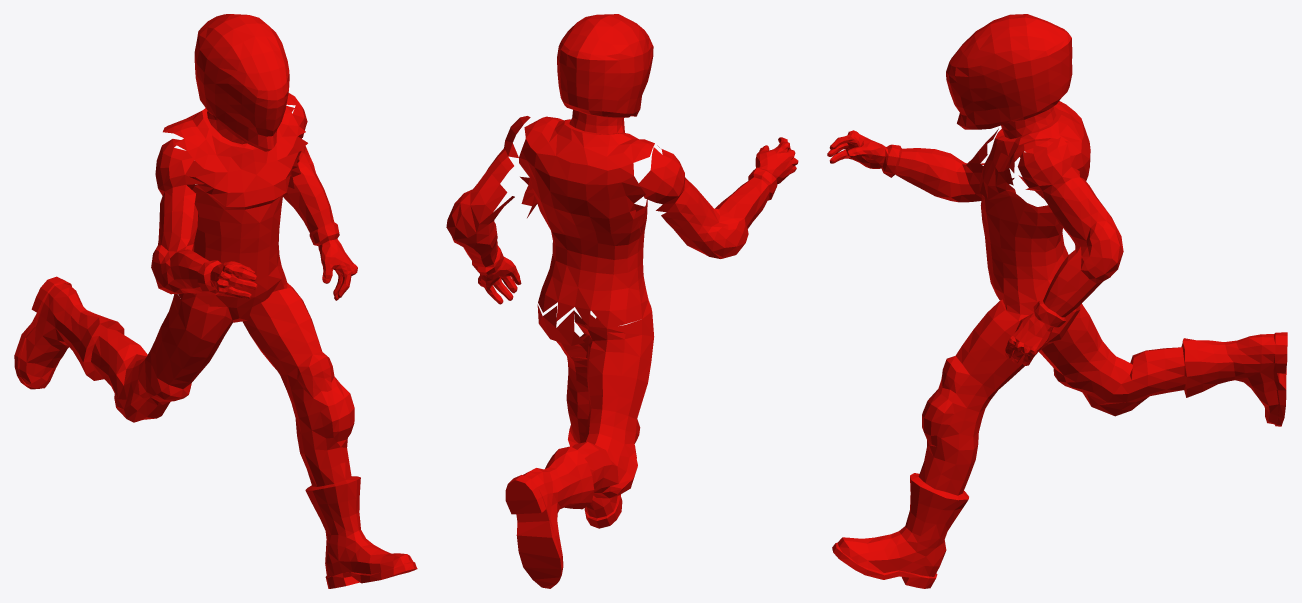
File: stride.glb
3 views of the same model, side by side, from view 1: azimuth 30°, elevation 25°; view 2: azimuth 150°, elevation 25°; view 3: azimuth 270°, elevation 25° (orthographic). The views are drawn at different scales.
Visible parts, largest first — view 1: body, arm_r, fore_l, fore_r, arm_l; view 2: body, arm_r, arm_l, fore_r, fore_l; view 3: body, arm_l, fore_l, fore_r, arm_r.
Boxes of the visible parts, left/top/right/bottom form: body: left=14, top=14, right=417, bottom=588; arm_r: left=151, top=127, right=204, bottom=288; fore_l: left=283, top=165, right=357, bottom=351; fore_r: left=156, top=249, right=257, bottom=384; arm_l: left=286, top=93, right=315, bottom=184; body: left=501, top=14, right=671, bottom=588; arm_r: left=626, top=147, right=745, bottom=258; arm_l: left=446, top=116, right=529, bottom=243; fore_r: left=632, top=137, right=798, bottom=418; fore_l: left=452, top=223, right=521, bottom=304; body: left=832, top=14, right=1287, bottom=588; arm_l: left=1018, top=137, right=1123, bottom=273; fore_l: left=962, top=255, right=1117, bottom=374; fore_r: left=827, top=130, right=961, bottom=202; arm_r: left=945, top=128, right=1014, bottom=202.
Size of the model in its own units: 0.4163 by 0.9612 by 0.738.
